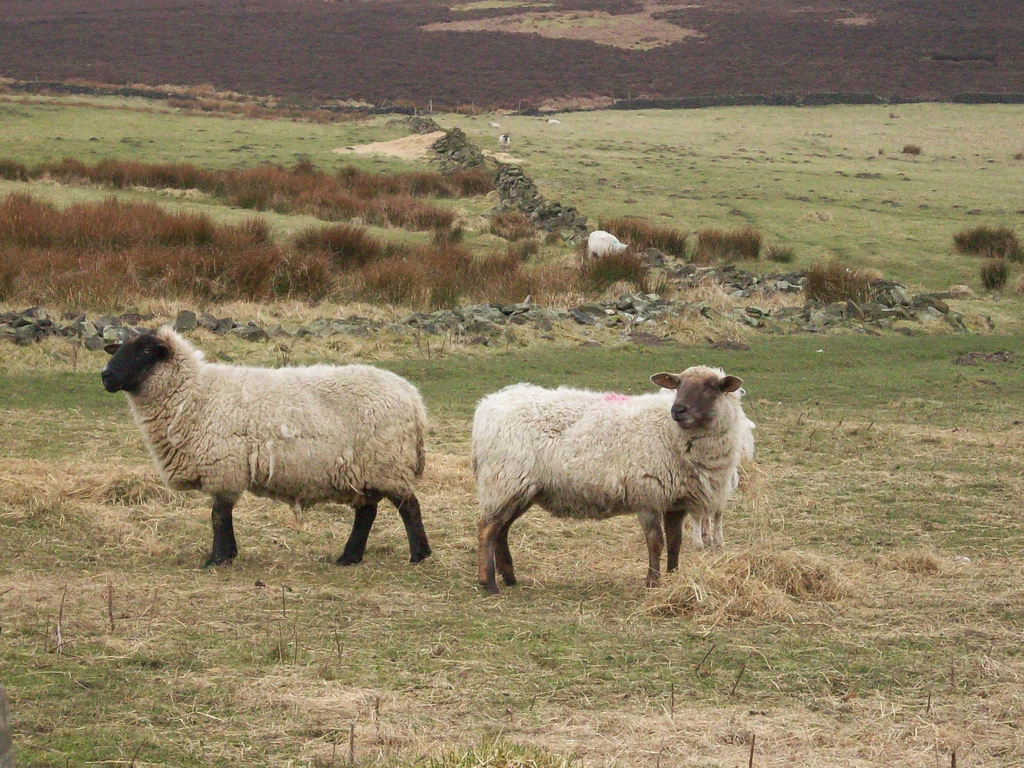sheep: (98, 324, 441, 570), (468, 363, 756, 599)
